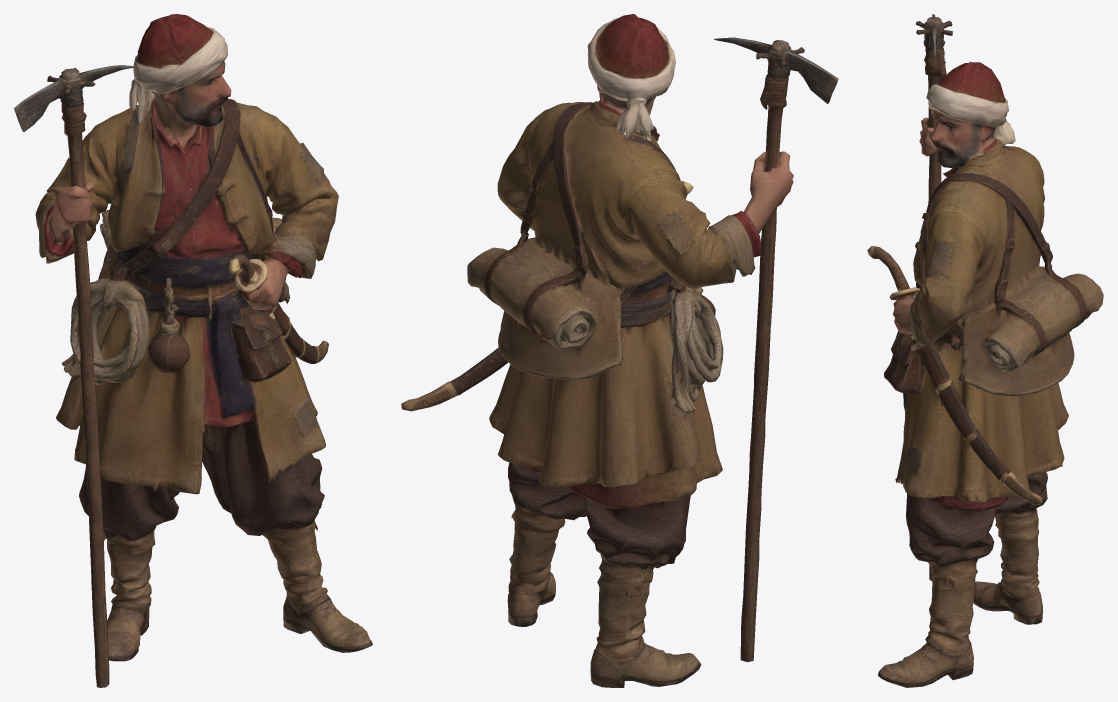
File: yaya-geri-hizmet-neferi-1550-1600-tripo-v2.glb
The picture shows the model from 3 angles, left to right: view 1: azimuth 30°, elevation 25°; view 2: azimuth 150°, elevation 25°; view 3: azimuth 270°, elevation 25°; orthographic projection. The views are drawn at different scales.
Parts seen in each view (by area): view 1: tripo_node_fd41485b-7e8d-4614-853f-1261275346fe; view 2: tripo_node_fd41485b-7e8d-4614-853f-1261275346fe; view 3: tripo_node_fd41485b-7e8d-4614-853f-1261275346fe.
Boxes of the visible parts, bbox=[...] form: tripo_node_fd41485b-7e8d-4614-853f-1261275346fe: bbox=[14, 14, 372, 687]; tripo_node_fd41485b-7e8d-4614-853f-1261275346fe: bbox=[401, 14, 838, 687]; tripo_node_fd41485b-7e8d-4614-853f-1261275346fe: bbox=[867, 14, 1103, 687].
Bounding box in the file's own units: 0.6163 × 1 × 0.3828.
Materials: 1 (1 with a texture image).
